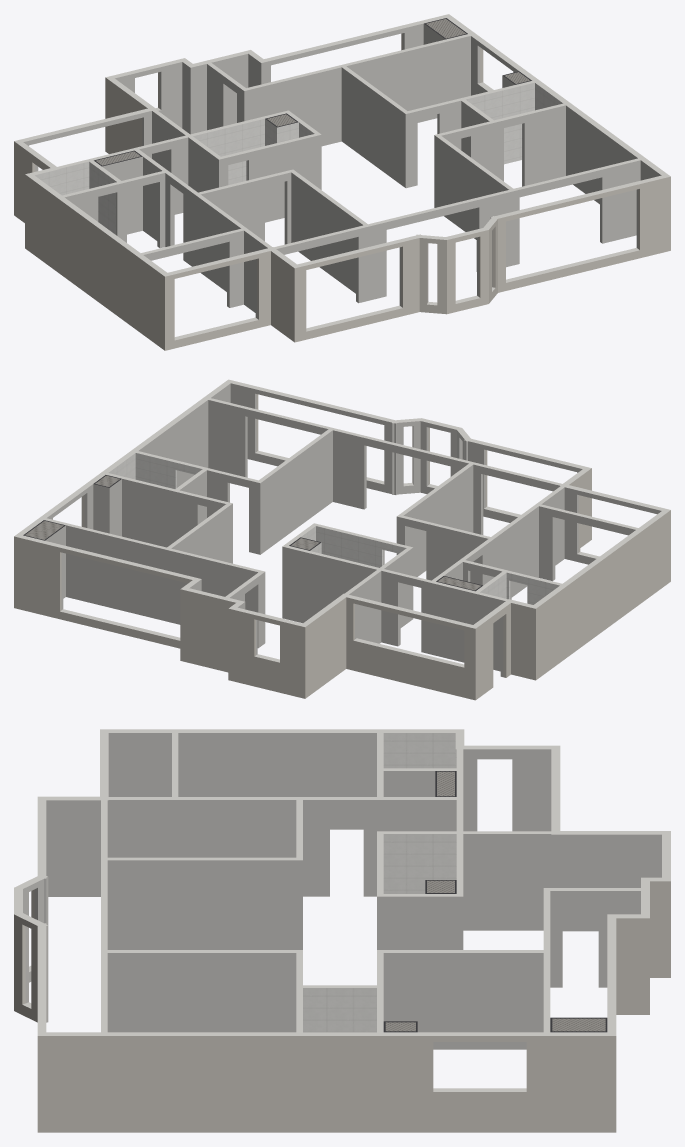
The model's file is walls.glb.
The picture shows the model from 3 angles, top to bottom: view 1: azimuth 30°, elevation 25°; view 2: azimuth 150°, elevation 25°; view 3: azimuth 270°, elevation 25°; orthographic projection. The views are drawn at different scales.
Parts seen in each view (by area): view 1: wall_balcony_north_bottom_upper, wall_front_boundary_upper, wall_E18_upper, wall_E10_upper, wall_E18_lower, wall_bed_se_top_upper, wall_bed_ne_bottom_upper, wall_bed_ne_left_upper, wall_alpha_right_upper, wall_bath_center_bottom_upper, wall_E11_lower, wall_balcony_north_bottom_lower (+52 smaller); view 2: wall_front_boundary_upper, wall_balcony_north_bottom_upper, wall_E18_upper, wall_E18_lower, wall_E10_upper, wall_E03_lower, wall_balcony_north_bottom_lower, wall_vest_bottom_upper, wall_bed_ne_bottom_upper, wall_E09_lower, wall_kitchen_bath_upper, wall_E09_upper (+48 smaller); view 3: wall_E10_upper, wall_E10_lower, wall_E18_upper, wall_alpha_right_upper, wall_bed_sw_right_upper, wall_bed_se_left_upper, wall_bed_ne_left_upper, wall_bed_sw_right_lower, wall_bed_se_left_lower, wall_E04_upper, wall_bed_ne_left_lower, wall_vest_kitchen_upper (+35 smaller).
Part boxes in pixels (x1,y1,x2,y2): wall_balcony_north_bottom_upper: [246, 34, 470, 119]; wall_front_boundary_upper: [274, 158, 640, 267]; wall_E18_upper: [28, 175, 166, 312]; wall_E10_upper: [447, 16, 670, 216]; wall_E18_lower: [28, 215, 161, 347]; wall_bed_se_top_upper: [434, 103, 565, 174]; wall_bed_ne_bottom_upper: [408, 81, 534, 151]; wall_bed_ne_left_upper: [341, 66, 410, 152]; wall_alpha_right_upper: [165, 172, 272, 276]; wall_bath_center_bottom_upper: [221, 133, 321, 186]; wall_E11_lower: [498, 216, 664, 292]; wall_balcony_north_bottom_lower: [297, 74, 470, 146]; wall_front_boundary_upper: [208, 398, 561, 503]; wall_balcony_north_bottom_upper: [44, 518, 260, 608]; wall_E18_upper: [534, 511, 667, 643]; wall_E18_lower: [539, 550, 667, 677]; wall_E10_upper: [18, 379, 233, 535]; wall_E03_lower: [346, 634, 469, 698]; wall_balcony_north_bottom_lower: [66, 562, 253, 624]; wall_vest_bottom_upper: [381, 569, 507, 636]; wall_bed_ne_bottom_upper: [106, 473, 227, 531]; wall_E09_lower: [14, 573, 180, 648]; wall_kitchen_bath_upper: [282, 545, 378, 597]; wall_E09_upper: [14, 534, 195, 584]; wall_E10_upper: [37, 1032, 607, 1085]; wall_E10_lower: [37, 1086, 607, 1132]; wall_E18_upper: [108, 729, 455, 783]; wall_alpha_right_upper: [108, 797, 376, 849]; wall_bed_sw_right_upper: [101, 857, 296, 910]; wall_bed_se_left_upper: [101, 950, 296, 1002]; wall_bed_ne_left_upper: [377, 950, 543, 1002]; wall_bed_sw_right_lower: [107, 910, 296, 949]; wall_bed_se_left_lower: [107, 1003, 296, 1032]; wall_E04_upper: [560, 831, 670, 884]; wall_bed_ne_left_lower: [383, 1003, 543, 1049]; wall_vest_kitchen_upper: [456, 831, 551, 884].
Bounding box in the file's own units: 16.4 × 2.41 × 14.85.
5 materials, 2 textured.
